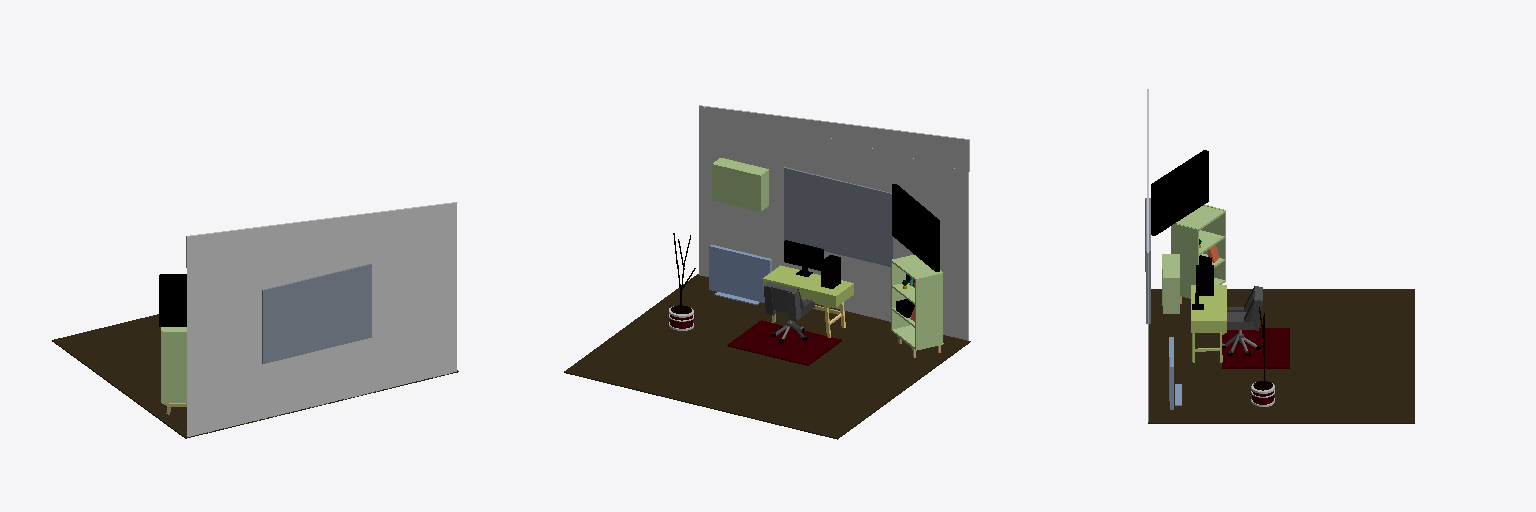
Rendered from room.obj.
3 views of the same model, side by side, from view 1: azimuth 30°, elevation 25°; view 2: azimuth 150°, elevation 25°; view 3: azimuth 270°, elevation 25° (orthographic).
Parts seen in each view (by area): view 1: Cube.004_Material.004, Cube.035_Material.021, Cube.001_Material.001, off, Cube.034_Material.007; view 2: Cube.001_Material.001, Cube.004_Material.004, off, Cube.035_Material.021, Cube.034_Material.007, Cube.036_Material.020, Cube.032_Material.053, Cube.044_Material.019, Cube.027_Material.022, Cube.030_Material.025; view 3: Cube.001_Material.001, off, Cube.034_Material.007, Cube.032_Material.053, Cube.044_Material.019.
Part boxes in pixels (bbox=[...]): Cube.004_Material.004: bbox=[187, 203, 456, 436]; Cube.035_Material.021: bbox=[262, 264, 371, 363]; Cube.001_Material.001: bbox=[52, 314, 458, 438]; off: bbox=[161, 202, 457, 403]; Cube.034_Material.007: bbox=[159, 274, 186, 326]; Cube.001_Material.001: bbox=[564, 274, 970, 439]; Cube.004_Material.004: bbox=[699, 106, 968, 340]; off: bbox=[669, 105, 969, 350]; Cube.035_Material.021: bbox=[784, 167, 892, 266]; Cube.034_Material.007: bbox=[892, 184, 939, 271]; Cube.036_Material.020: bbox=[709, 245, 771, 302]; Cube.032_Material.053: bbox=[727, 320, 841, 365]; Cube.044_Material.019: bbox=[712, 158, 768, 211]; Cube.027_Material.022: bbox=[784, 240, 823, 270]; Cube.030_Material.025: bbox=[821, 255, 840, 288]; Cube.001_Material.001: bbox=[1148, 289, 1414, 423]; off: bbox=[1147, 89, 1274, 406]; Cube.034_Material.007: bbox=[1151, 150, 1208, 235]; Cube.032_Material.053: bbox=[1222, 328, 1289, 368]; Cube.044_Material.019: bbox=[1162, 254, 1179, 313].
Bounding box in the file's own units: 23.98 × 16.94 × 20.43.